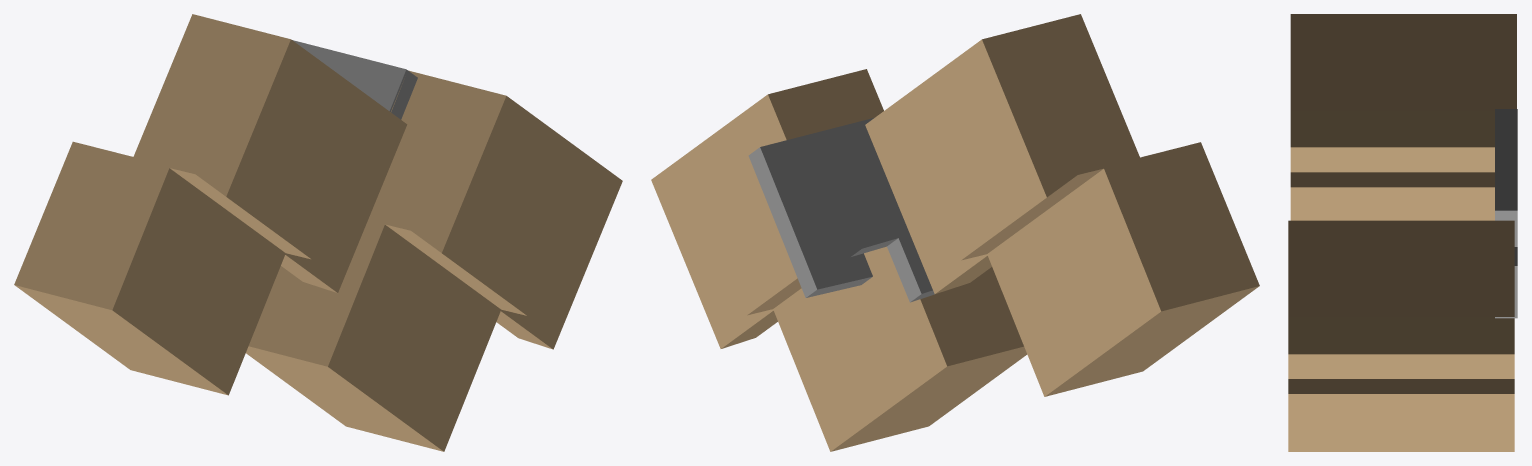
The picture shows the model from 3 angles, left to right: view 1: azimuth 30°, elevation 25°; view 2: azimuth 150°, elevation 25°; view 3: azimuth 270°, elevation 25°; orthographic projection. The views are drawn at different scales.
Parts seen in each view (by area): view 1: 0_1_0_0_1_0_3_2; view 2: 0_1_0_0_1_0_3_2; view 3: 0_1_0_0_1_0_3_2.
Part boxes in pixels (x1,y1,x2,y2): 0_1_0_0_1_0_3_2: [14, 14, 622, 451]; 0_1_0_0_1_0_3_2: [651, 14, 1259, 451]; 0_1_0_0_1_0_3_2: [1288, 14, 1517, 451].
Size of the model in its own units: 73.11 by 54.71 by 30.4.
